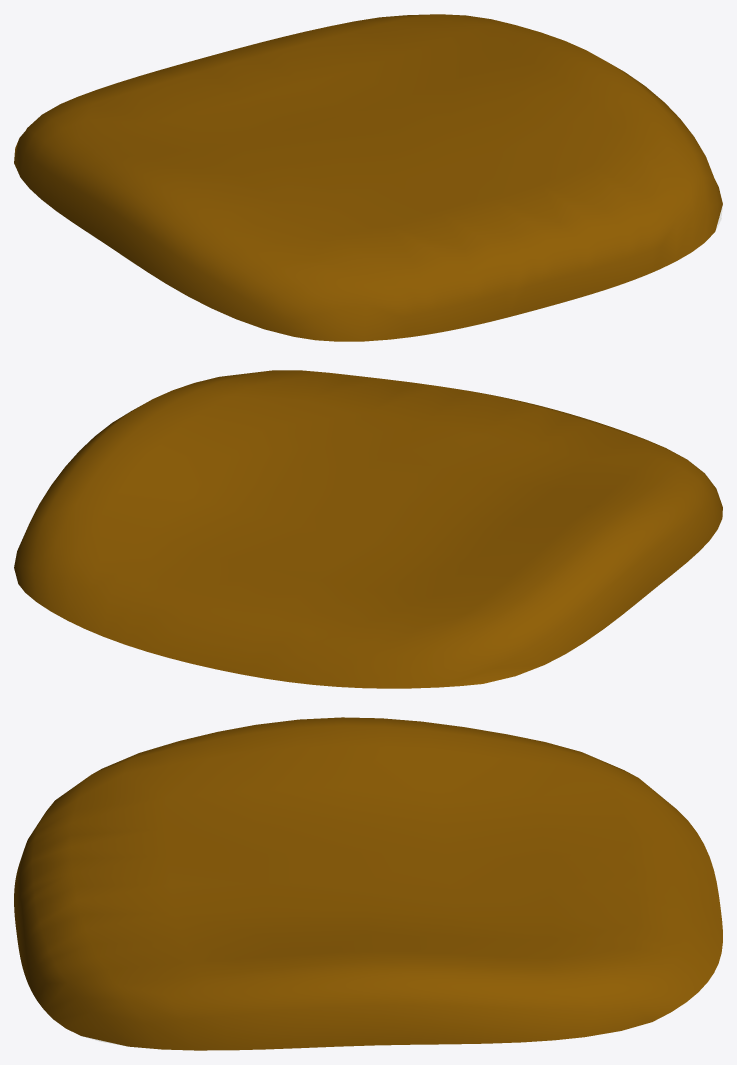
Rendered from original-2.obj.
3 views of the same model, one above another, from view 1: azimuth 30°, elevation 25°; view 2: azimuth 150°, elevation 25°; view 3: azimuth 270°, elevation 25° (orthographic). The views are drawn at different scales.
Visible parts, largest first — view 1: mesh1/mesh1-geometry#mesh1-geometry; view 2: mesh1/mesh1-geometry#mesh1-geometry; view 3: mesh1/mesh1-geometry#mesh1-geometry.
Part boxes in pixels (<box>): mesh1/mesh1-geometry#mesh1-geometry: <box>14,14,722,341</box>; mesh1/mesh1-geometry#mesh1-geometry: <box>14,370,722,688</box>; mesh1/mesh1-geometry#mesh1-geometry: <box>14,717,722,1050</box>.
Bounding box in the file's own units: 0.8381 × 0.1101 × 0.8616.
